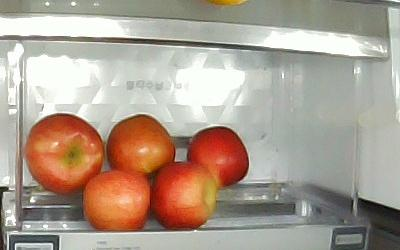apple: (24, 113, 105, 196), (152, 163, 218, 231), (106, 115, 177, 176), (84, 169, 150, 233), (187, 126, 249, 187)
